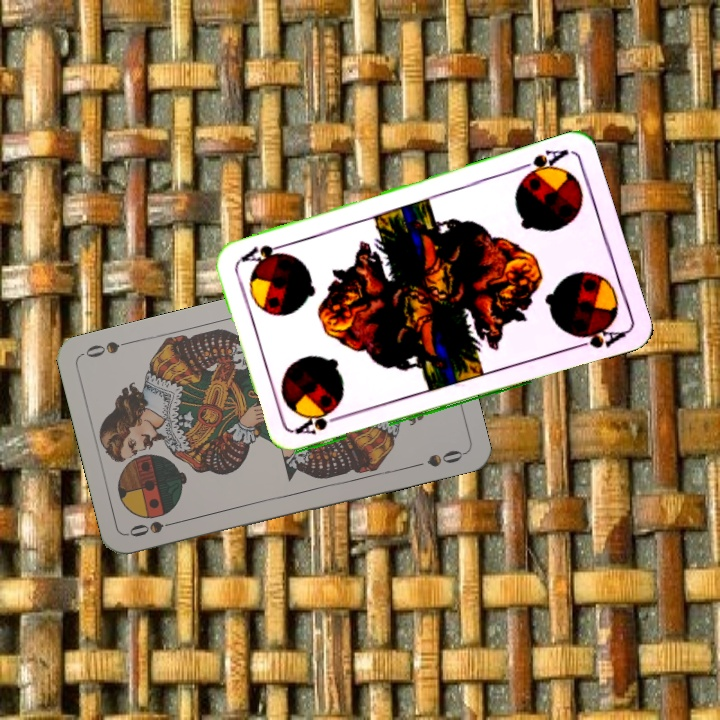SA: (513, 145, 570, 182), (291, 409, 350, 438)
SO: (125, 516, 184, 540)
